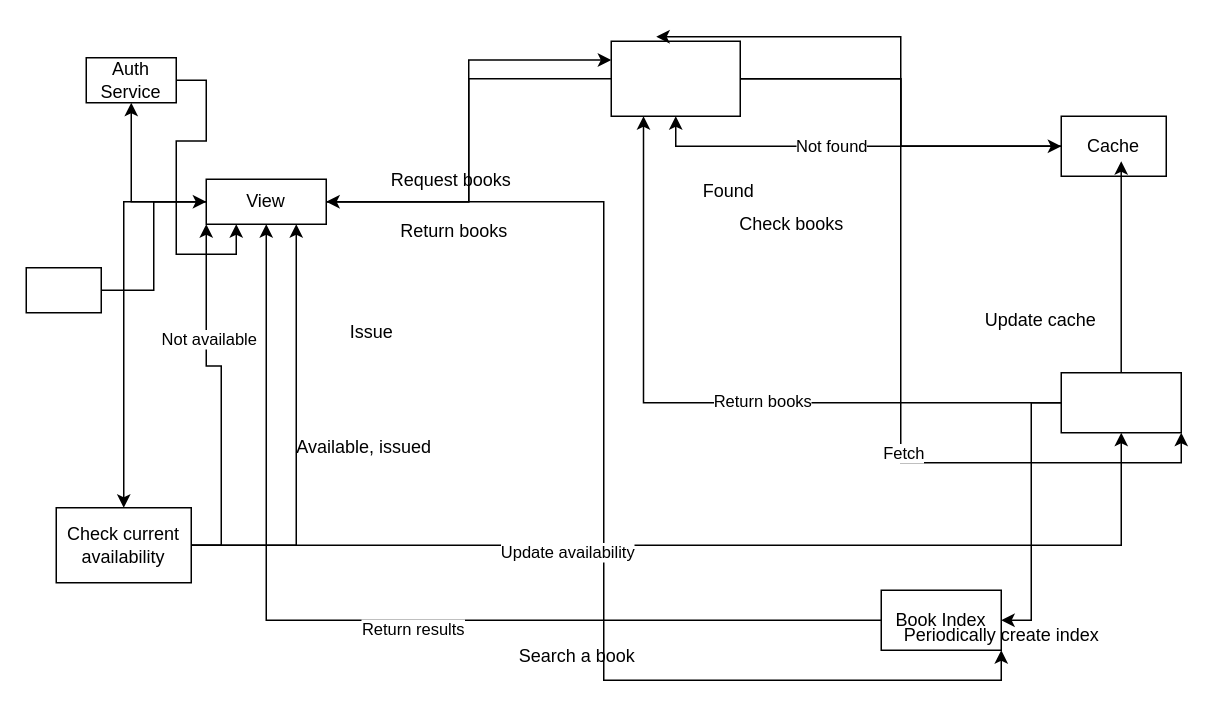
Some shapes in this 1220 by 719 pixel diagram are drawn without their labels. The centre of each missing label's shape, as x and y in pixels:
"Client" belongs at (x=63, y=289).
"DB" belongs at (x=1120, y=402).
"User Dashboard service" belongs at (x=675, y=78).
